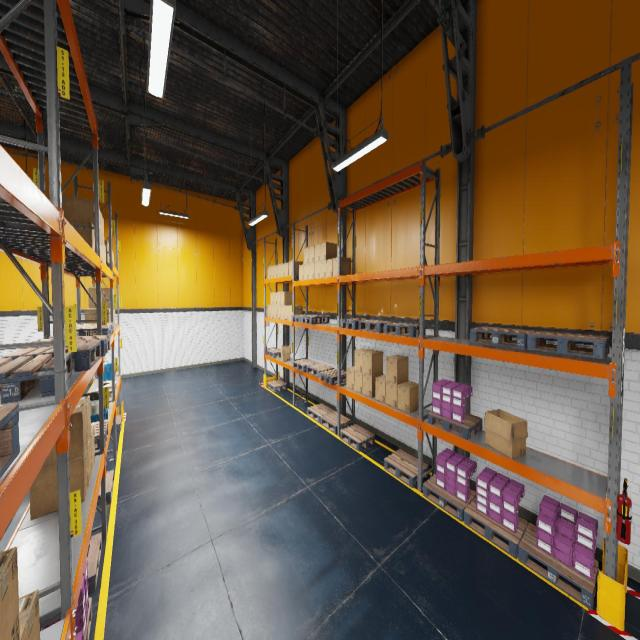box: (30, 445, 89, 520), (42, 403, 87, 468), (483, 409, 528, 458), (0, 546, 20, 640), (19, 590, 40, 640), (62, 194, 94, 226), (66, 218, 94, 251), (398, 380, 418, 413), (77, 396, 91, 443), (386, 355, 408, 384), (386, 380, 408, 408), (84, 309, 110, 331), (363, 350, 383, 376), (363, 372, 383, 398), (354, 348, 373, 373), (88, 288, 110, 308), (333, 257, 351, 276), (375, 374, 386, 403), (320, 242, 337, 260), (90, 308, 110, 322), (87, 435, 92, 484), (289, 260, 302, 276), (289, 305, 302, 320), (346, 366, 354, 390), (91, 425, 95, 471), (354, 371, 362, 394), (280, 345, 291, 361), (281, 292, 292, 305), (326, 258, 333, 277), (104, 240, 109, 263), (314, 260, 320, 278), (320, 260, 326, 278), (314, 244, 320, 262), (309, 245, 314, 263), (309, 263, 314, 279), (106, 381, 117, 388), (304, 247, 308, 264), (304, 264, 308, 280), (299, 264, 303, 280), (103, 383, 112, 390), (100, 211, 102, 240), (99, 209, 101, 237), (102, 216, 104, 243), (270, 305, 274, 318), (270, 292, 274, 305), (277, 264, 281, 277), (270, 265, 274, 278), (103, 380, 112, 385), (101, 239, 103, 261), (285, 306, 288, 320), (281, 305, 284, 319), (285, 262, 288, 276), (281, 262, 284, 276), (274, 264, 277, 278), (104, 244, 106, 264), (274, 305, 277, 318), (274, 292, 277, 305), (277, 292, 280, 304), (112, 250, 114, 264), (278, 305, 280, 318), (268, 266, 270, 279), (109, 389, 112, 397), (268, 305, 270, 317), (100, 236, 101, 259), (103, 241, 104, 263), (114, 309, 115, 325), (113, 253, 114, 265), (95, 389, 98, 392), (113, 289, 114, 294), (95, 238, 95, 252), (109, 244, 109, 262), (114, 310, 114, 326), (115, 309, 115, 324), (113, 289, 113, 307)
pallets: (518, 522, 598, 610), (464, 496, 528, 558), (0, 352, 72, 403), (1, 340, 100, 374), (423, 472, 476, 522), (526, 331, 610, 359), (22, 335, 110, 356), (384, 449, 429, 488), (428, 410, 482, 440), (0, 403, 20, 478), (470, 327, 536, 349), (86, 532, 102, 594), (340, 424, 375, 451), (320, 411, 351, 434), (384, 322, 425, 337), (98, 470, 114, 504), (307, 404, 335, 423), (91, 420, 108, 450), (76, 323, 113, 336), (358, 320, 397, 332), (319, 368, 346, 385), (306, 362, 334, 378), (340, 318, 375, 330), (76, 325, 111, 336), (84, 597, 92, 639), (293, 359, 318, 372), (267, 379, 287, 392), (301, 315, 329, 324), (291, 314, 317, 322), (112, 414, 122, 432), (266, 348, 281, 358)
